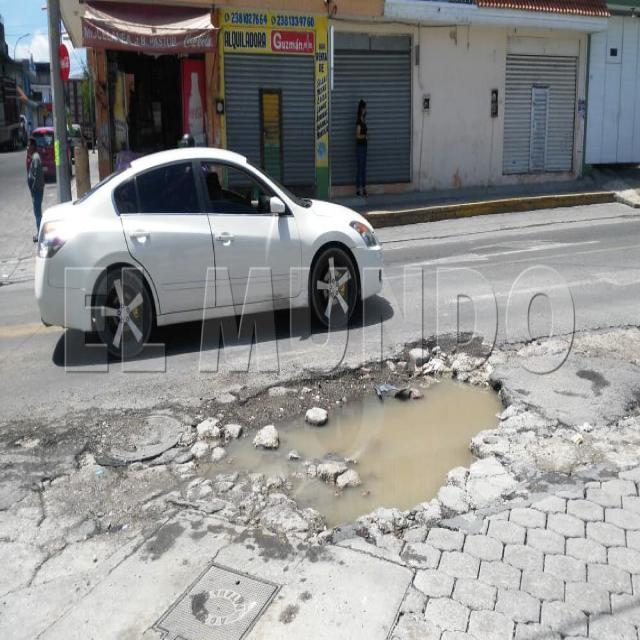pothole: (1, 305, 537, 562)
